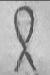V7: (5, 1, 46, 74)
